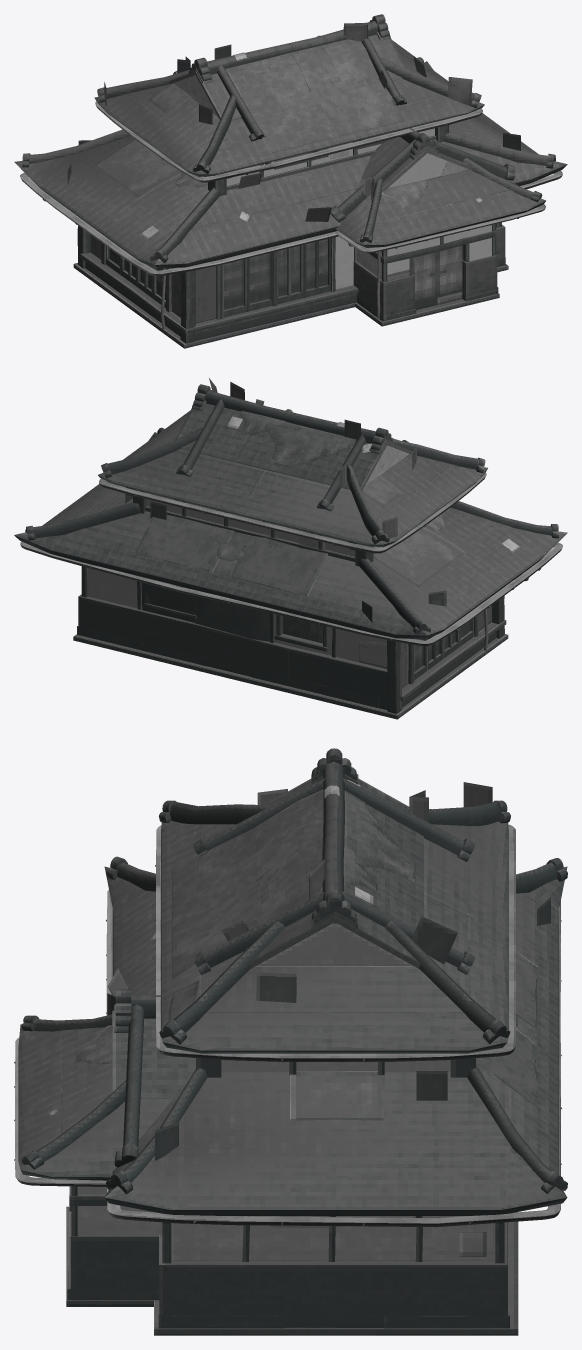
The model's file is house_jp.glb.
The picture shows the model from 3 angles, top to bottom: view 1: azimuth 30°, elevation 25°; view 2: azimuth 150°, elevation 25°; view 3: azimuth 270°, elevation 25°; orthographic projection. The views are drawn at different scales.
Parts seen in each view (by area): view 1: mesh; view 2: mesh; view 3: mesh.
Boxes of the visible parts, <box> form: mesh: <box>14,14,567,348</box>; mesh: <box>14,378,567,719</box>; mesh: <box>14,748,567,1335</box>.
Size of the model in its own units: 12.84 by 7 by 9.05.
Materials: 1 (1 with a texture image).
